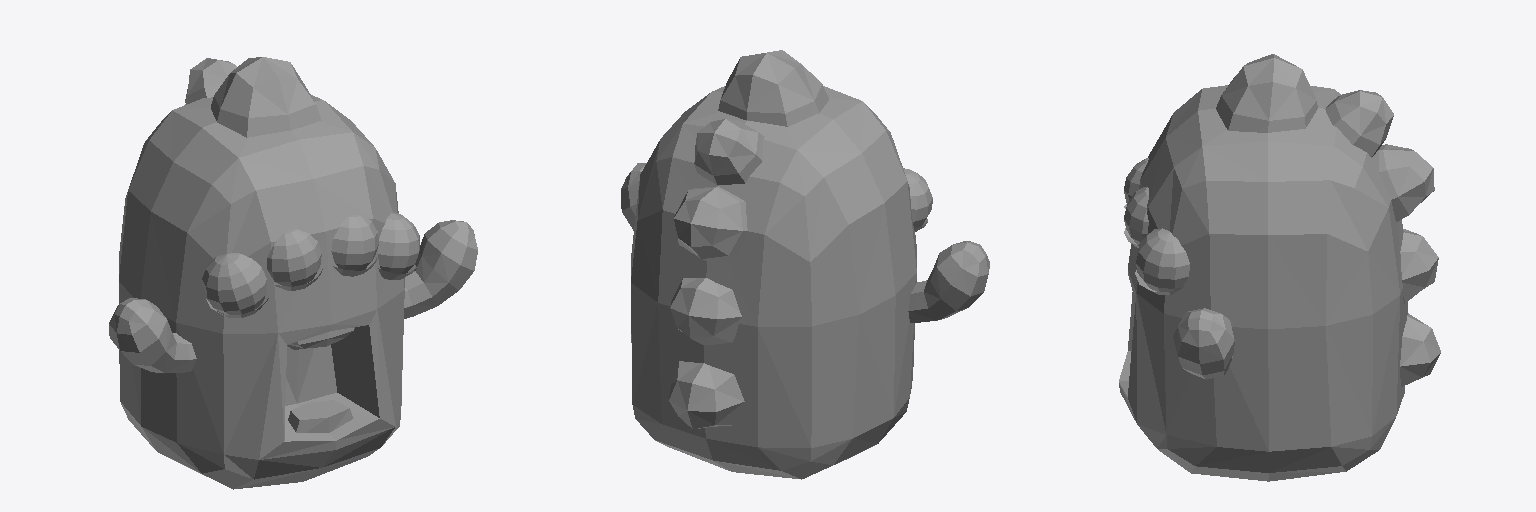
File: Alien_Tall.obj
The picture shows the model from 3 angles: view 1: azimuth 30°, elevation 25°; view 2: azimuth 150°, elevation 25°; view 3: azimuth 270°, elevation 25°; orthographic projection.
Visible parts, largest first — view 1: Alien_Tall_Cube.047; view 2: Alien_Tall_Cube.047; view 3: Alien_Tall_Cube.047.
Part boxes in pixels (x1,y1,x2,y2): Alien_Tall_Cube.047: (109, 57, 477, 489); Alien_Tall_Cube.047: (621, 50, 989, 479); Alien_Tall_Cube.047: (1119, 54, 1440, 481).
Size of the model in its own units: 2.03 by 2.16 by 1.57.